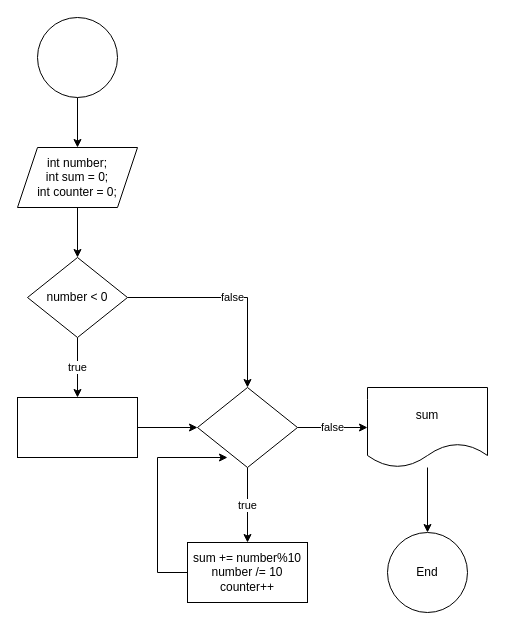
This 505x630 diagram has some shape labels left out. Each missing label, with the centre of its shape:
counter < 4: point 247,427
number *= -1: point 77,427
Start: point 77,57
